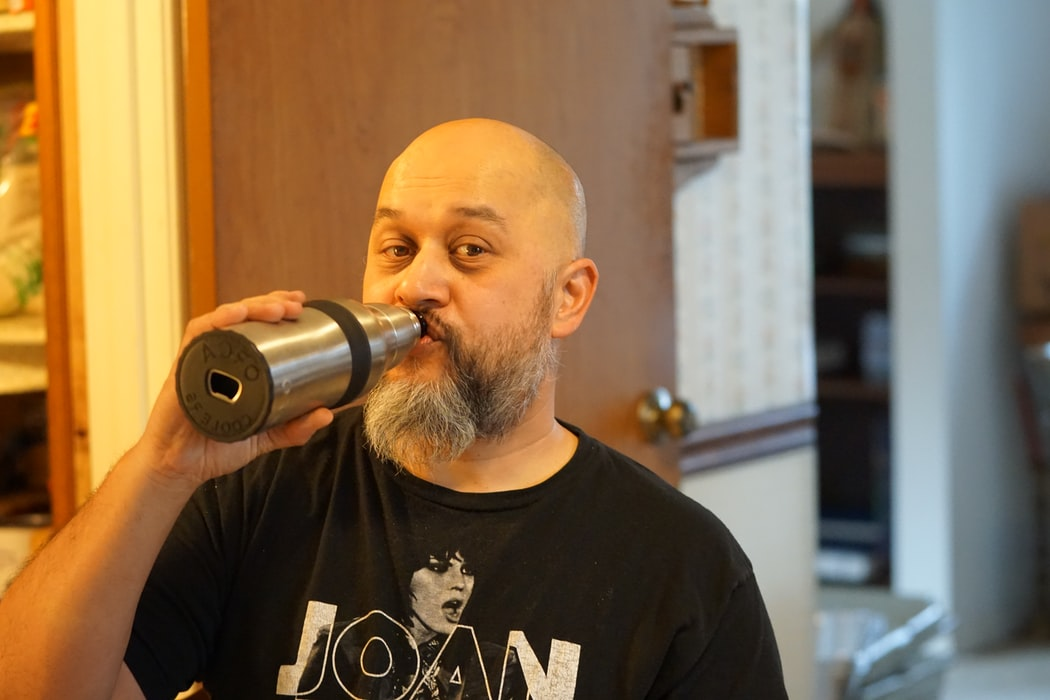beard: (357, 305, 559, 473)
